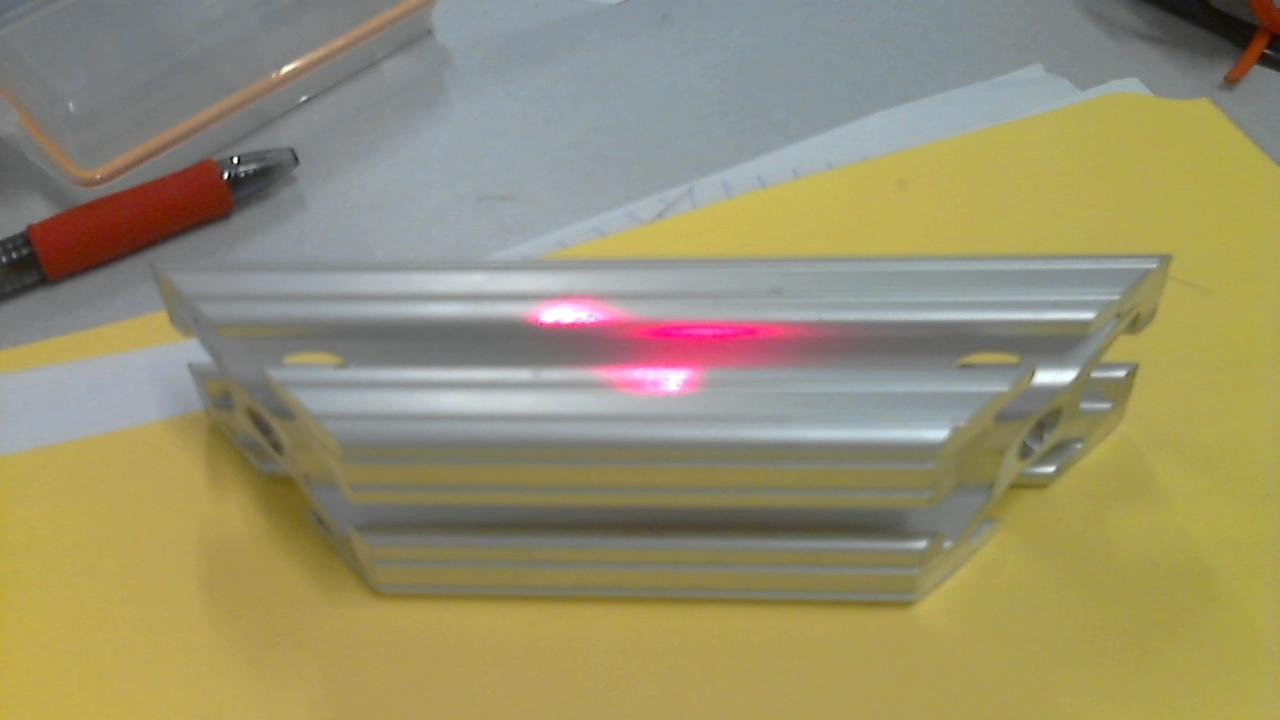Object - extruded aluminum profile - Material metal - Pdfname IJiB5jbMhrV7: (517, 293, 857, 400)
